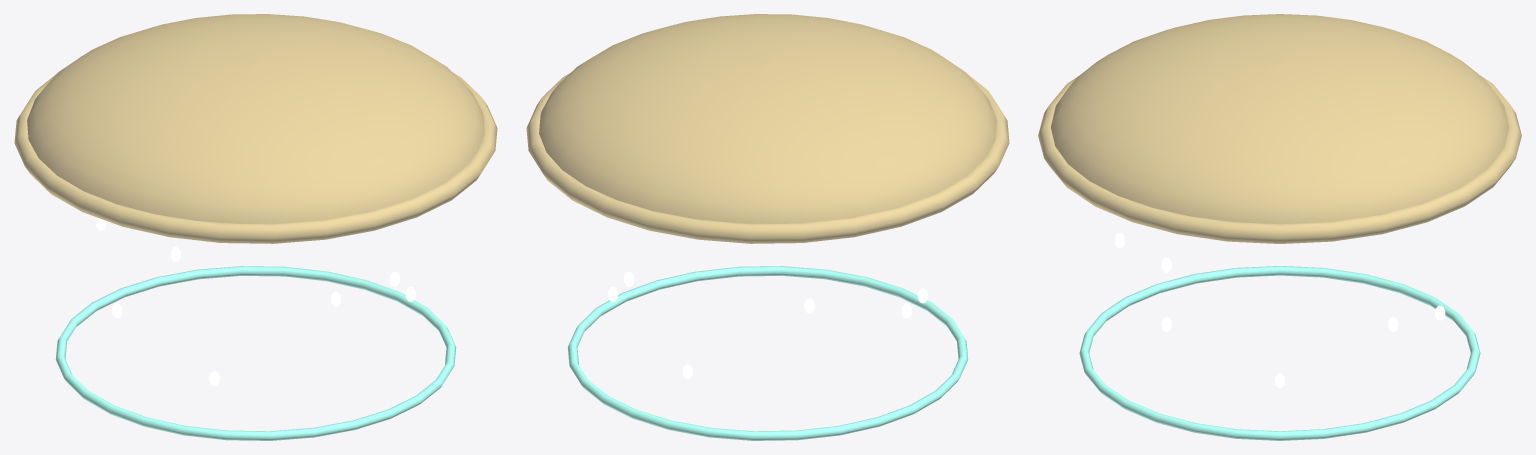
Rendered from atlantis_detail_airbell.glb.
The picture shows the model from 3 angles, left to right: view 1: azimuth 30°, elevation 25°; view 2: azimuth 150°, elevation 25°; view 3: azimuth 270°, elevation 25°; orthographic projection.
Parts seen in each view (by area): view 1: atlantis_detail_airbell_part_0; view 2: atlantis_detail_airbell_part_0; view 3: atlantis_detail_airbell_part_0.
Part boxes in pixels (bbox=[...]): atlantis_detail_airbell_part_0: bbox=[14, 14, 497, 440]; atlantis_detail_airbell_part_0: bbox=[526, 14, 1009, 440]; atlantis_detail_airbell_part_0: bbox=[1038, 14, 1521, 440].
Size of the model in its own units: 5.44 by 3.65 by 5.44.
